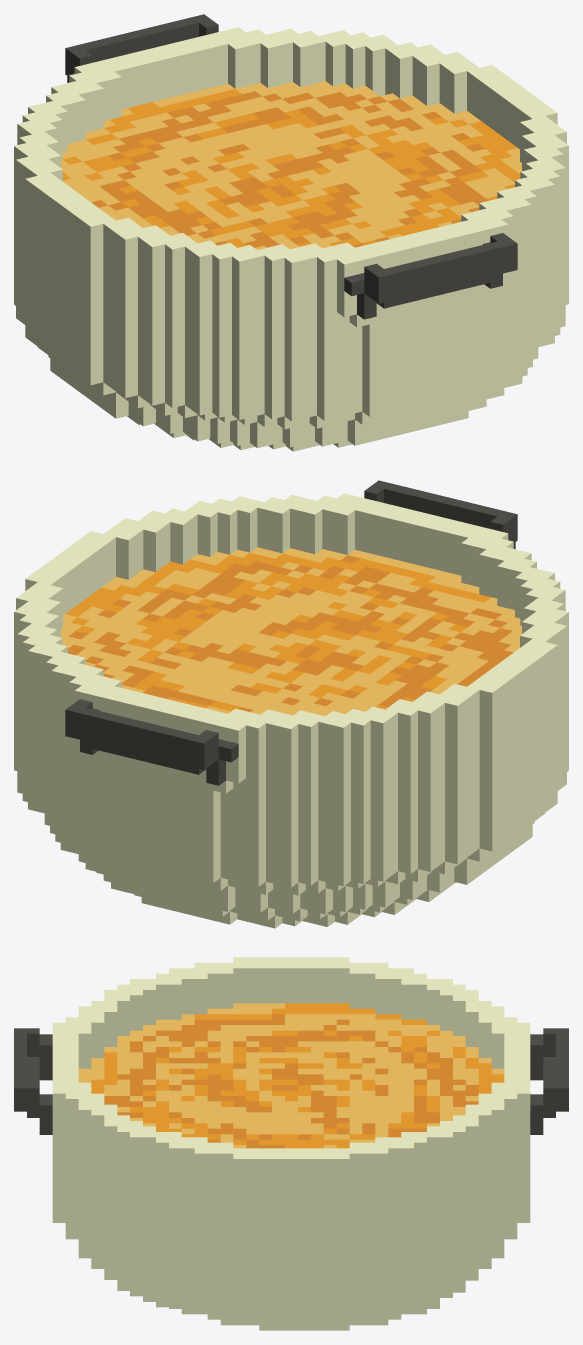
The model's file is agenabe abura2.obj.
3 renders of one model, top to bottom at view 1: azimuth 30°, elevation 25°; view 2: azimuth 150°, elevation 25°; view 3: azimuth 270°, elevation 25°, orthographic. The views are drawn at different scales.
Size of the model in its own units: 3.7 by 1.7 by 4.3.
1 material, 1 textured.
